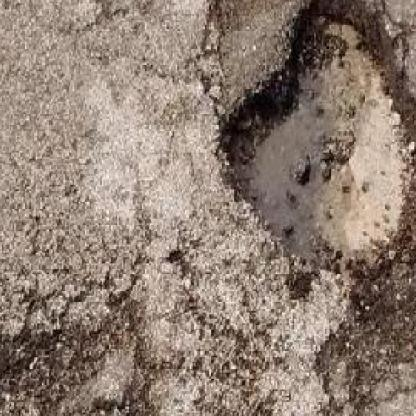pothole: (222, 0, 416, 291)
